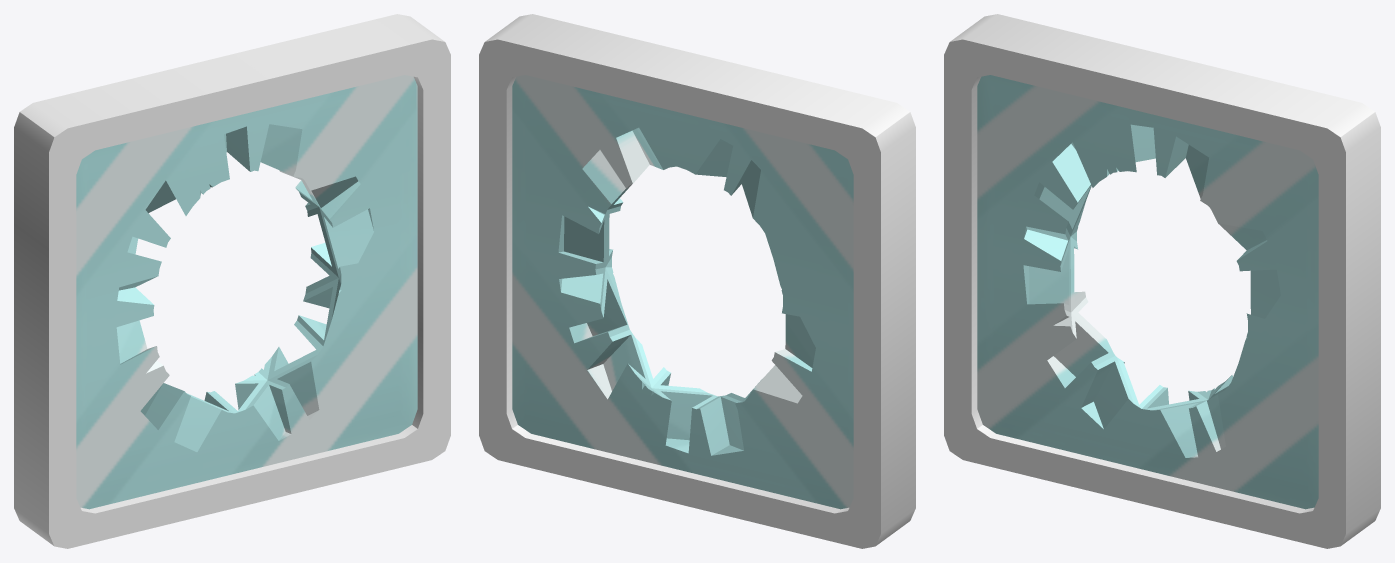
Rendered from Mod_Window_02.fbx.
3 renders of one model, left to right at view 1: azimuth 30°, elevation 25°; view 2: azimuth 150°, elevation 25°; view 3: azimuth 330°, elevation 25°, orthographic.
Parts seen in each view (by area): view 1: Mod_Window_02; view 2: Mod_Window_02; view 3: Mod_Window_02.
Part boxes in pixels (box(x1,y1,x2,y2)): Mod_Window_02: box(14, 14, 450, 548); Mod_Window_02: box(479, 14, 915, 548); Mod_Window_02: box(944, 14, 1380, 548).
Bounding box in the file's own units: 100 × 100 × 15.
